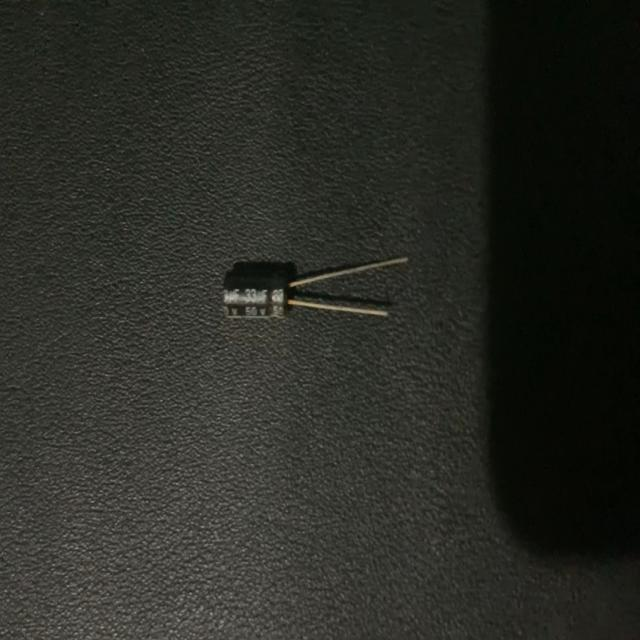capacitor: (218, 248, 411, 324)
